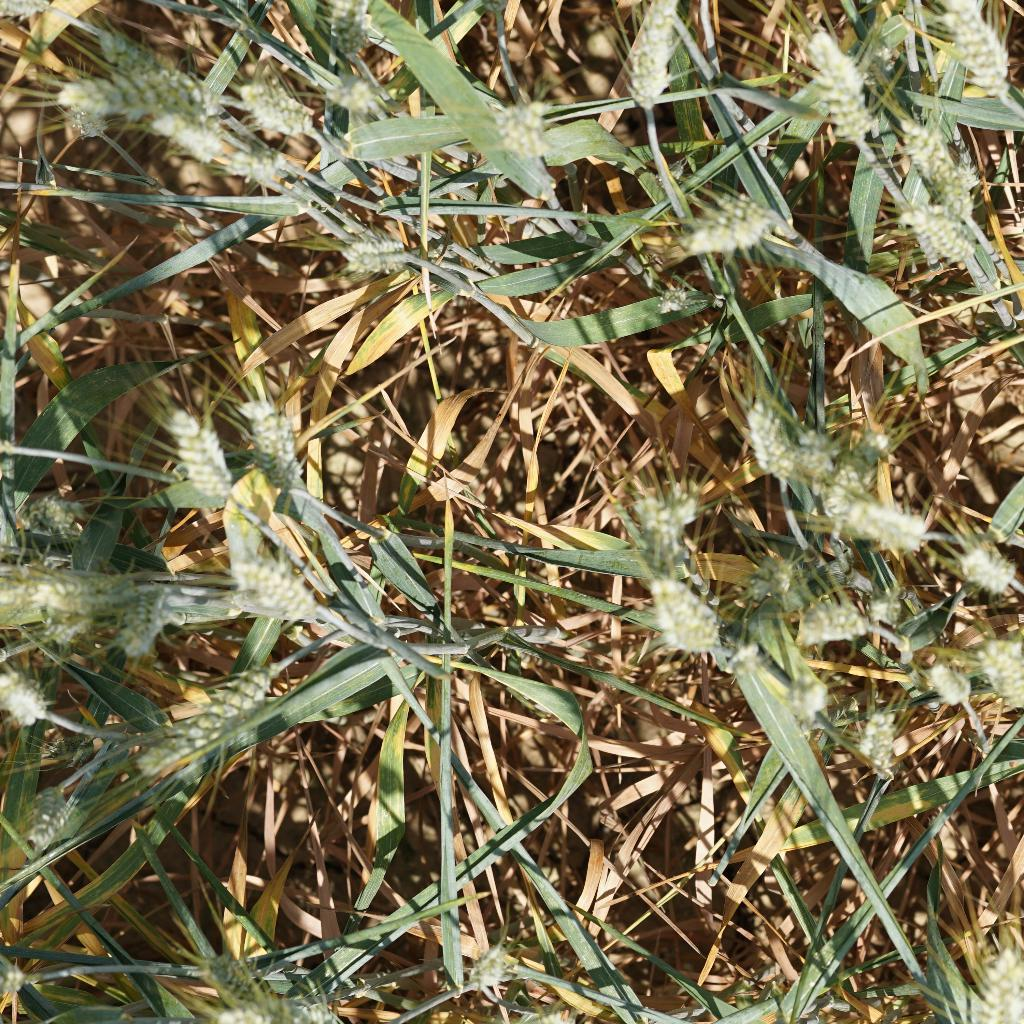0-0: (135, 675, 280, 785), (149, 396, 247, 511), (791, 25, 879, 149), (679, 183, 792, 277), (84, 16, 211, 99), (224, 530, 335, 621), (888, 113, 978, 217), (49, 63, 217, 118), (230, 387, 306, 501), (641, 563, 721, 671), (0, 552, 105, 630), (940, 0, 1019, 98), (619, 0, 684, 117), (897, 186, 985, 271), (834, 490, 942, 556), (616, 478, 701, 555), (787, 589, 884, 654), (11, 778, 82, 863), (737, 387, 795, 484), (818, 410, 892, 486), (486, 89, 559, 166), (137, 108, 228, 166), (974, 619, 1024, 718), (451, 938, 531, 997), (240, 81, 320, 139), (20, 488, 102, 542), (950, 537, 1019, 601), (111, 575, 167, 653), (783, 404, 841, 479), (313, 0, 372, 71), (186, 941, 251, 1005), (747, 544, 811, 609), (850, 702, 901, 781), (335, 231, 418, 279), (0, 670, 58, 733), (921, 660, 980, 718), (321, 63, 387, 112), (783, 668, 833, 732), (37, 727, 102, 770), (225, 148, 289, 185), (716, 635, 764, 678), (66, 101, 115, 143), (861, 586, 906, 629), (0, 961, 36, 1009), (648, 283, 693, 317), (545, 798, 613, 818), (0, 0, 53, 21)
